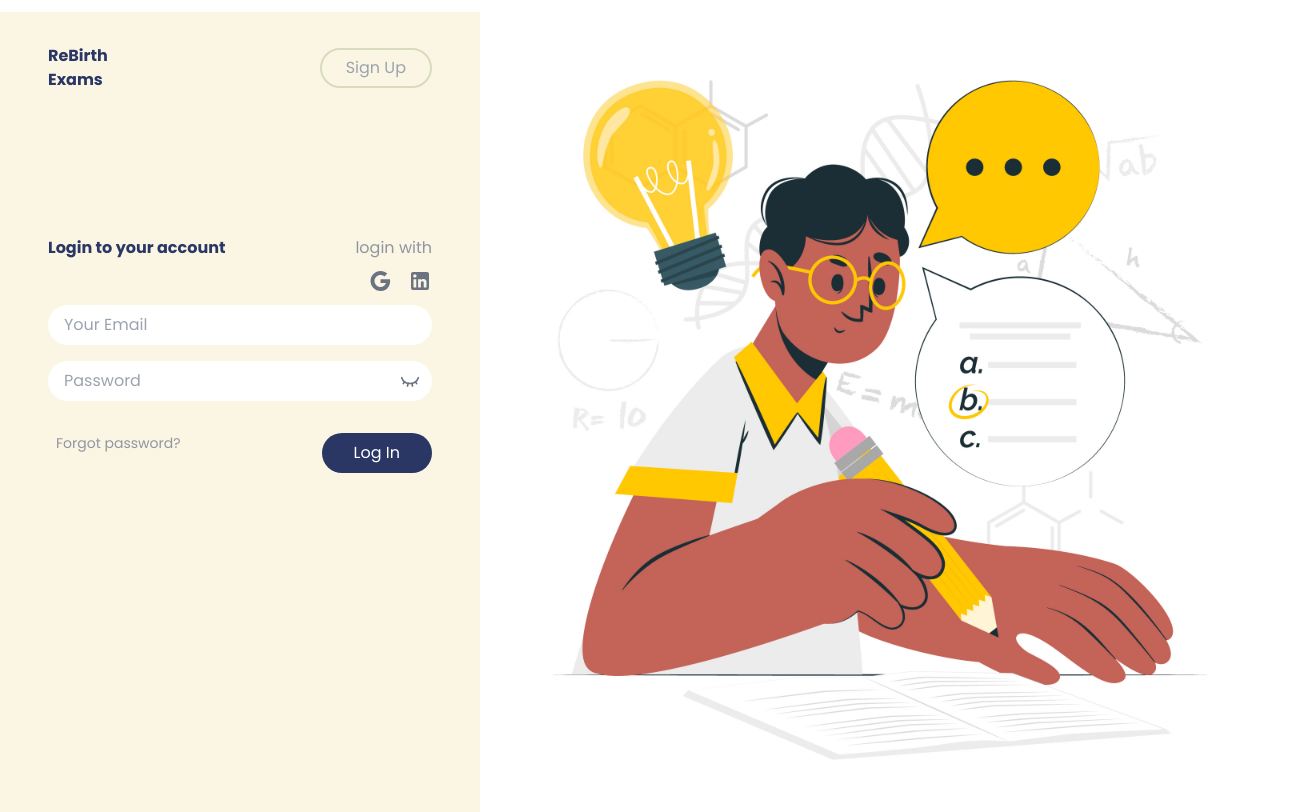
Test case: Signup › redirects on successful login
Step 1. Click the button "Sign Up" → (376, 68), box [320,48,432,88]
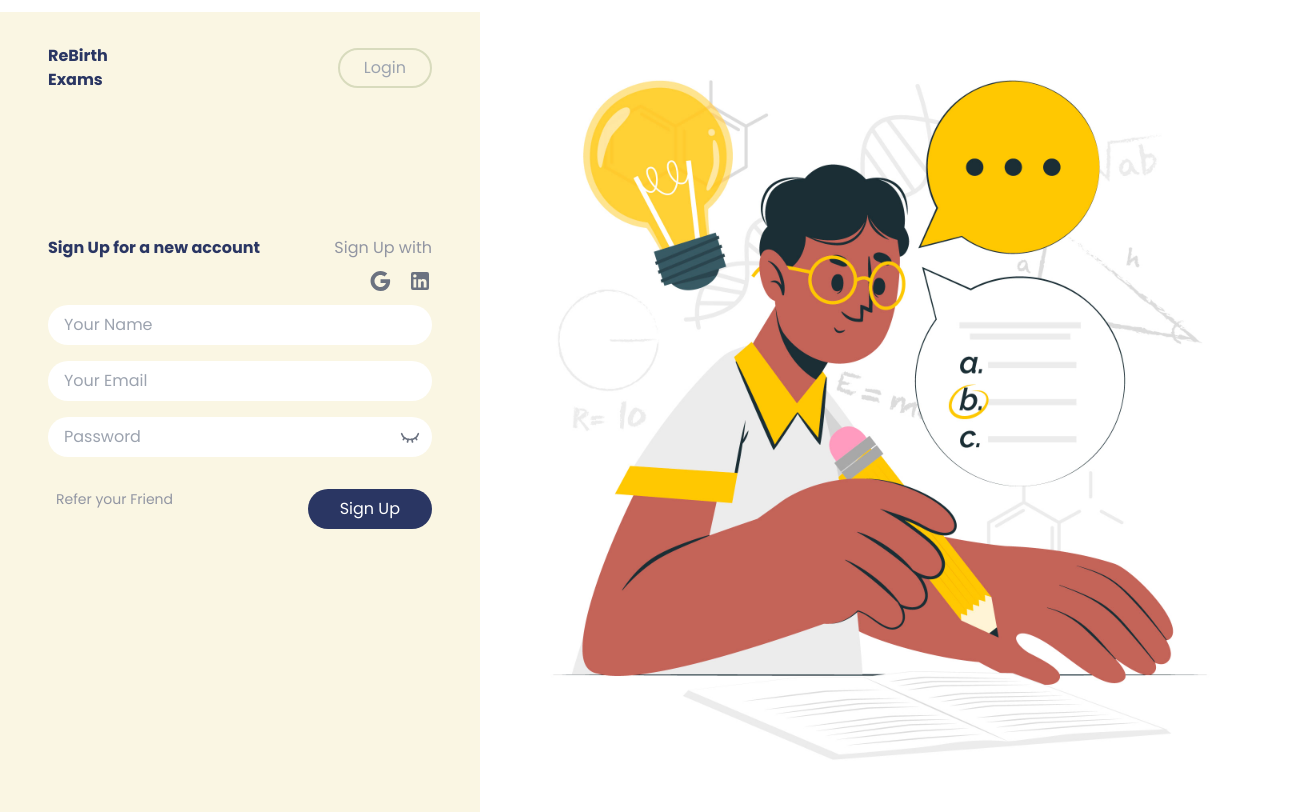
Step 2. Type "brighty" into the field with placeholder "Your Name" → (240, 325), box [48,305,432,345]
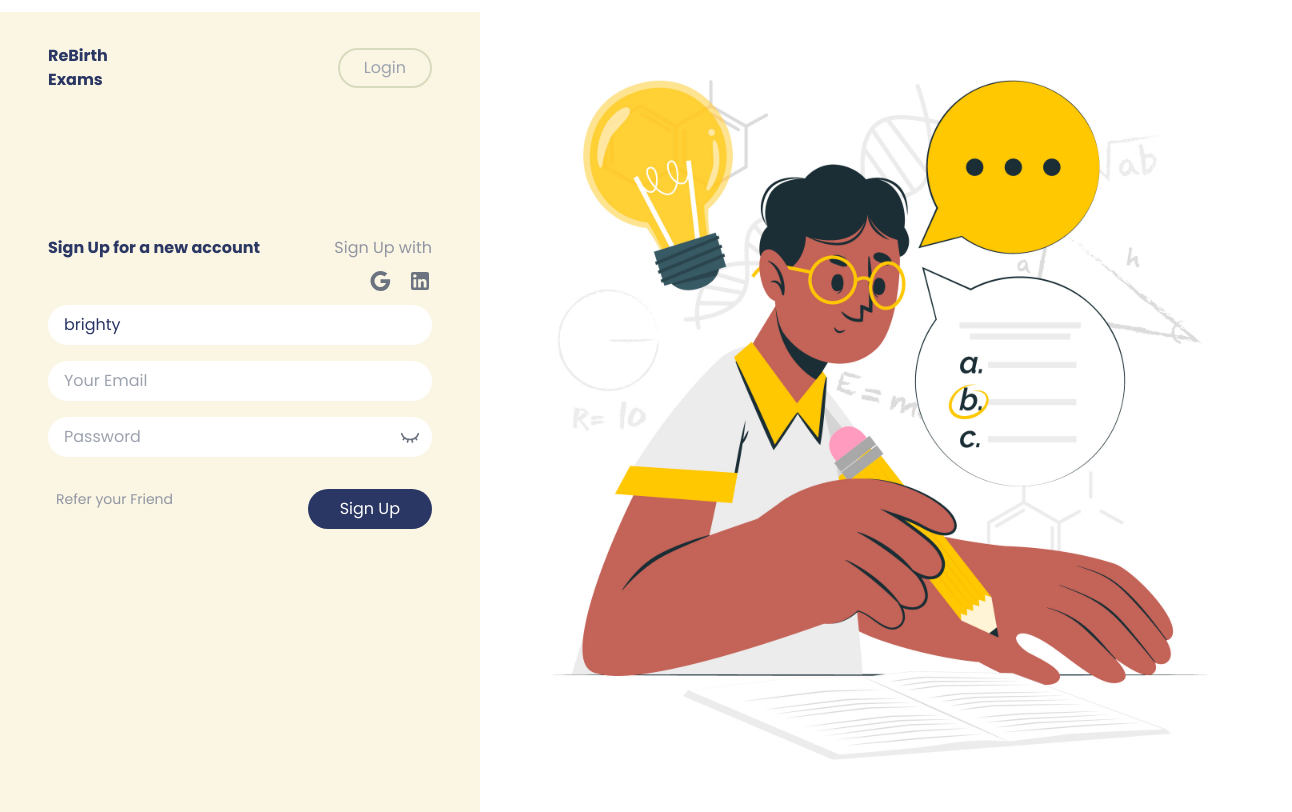
Step 3. Type "sbrighty54@gmail.com" into the field with placeholder "Your Email" → (240, 381), box [48,361,432,401]
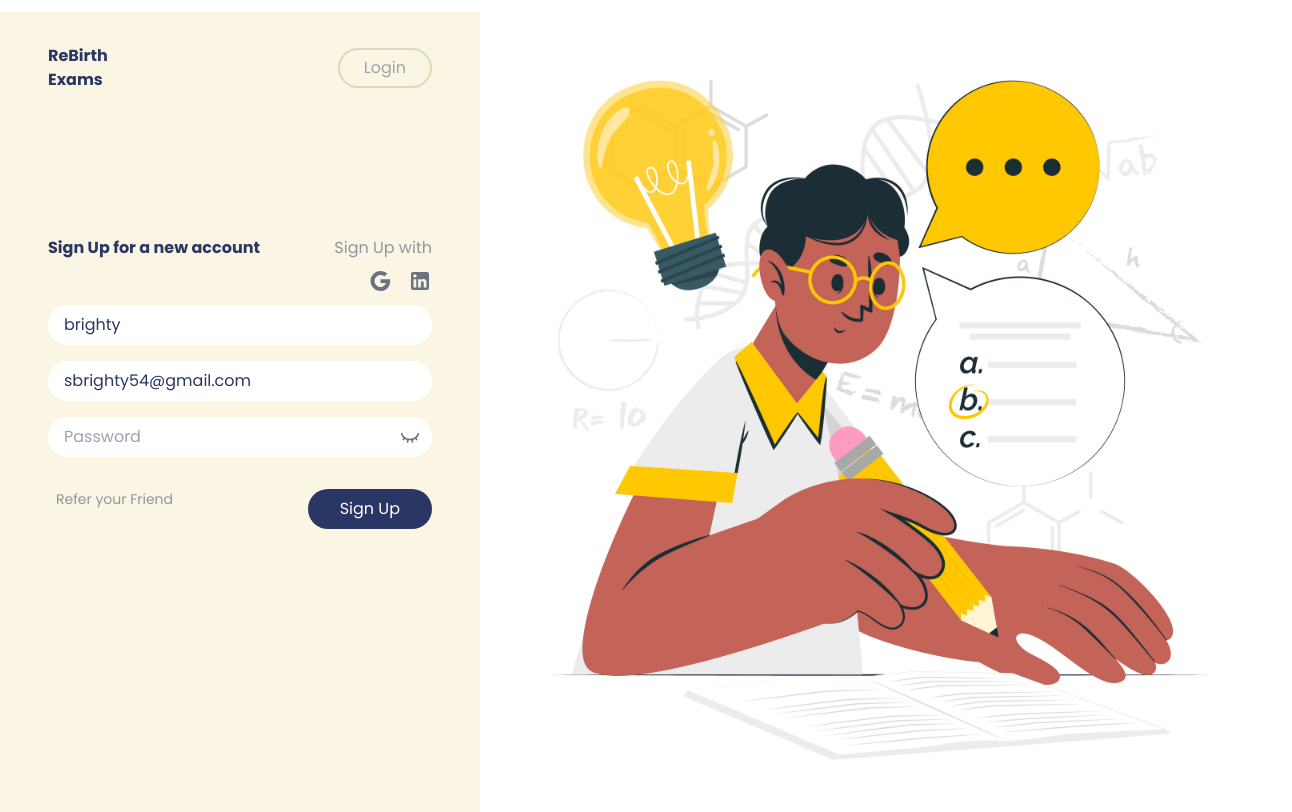
Step 4. Type "password" into the password field with placeholder "Password" → (240, 437), box [48,417,432,457]
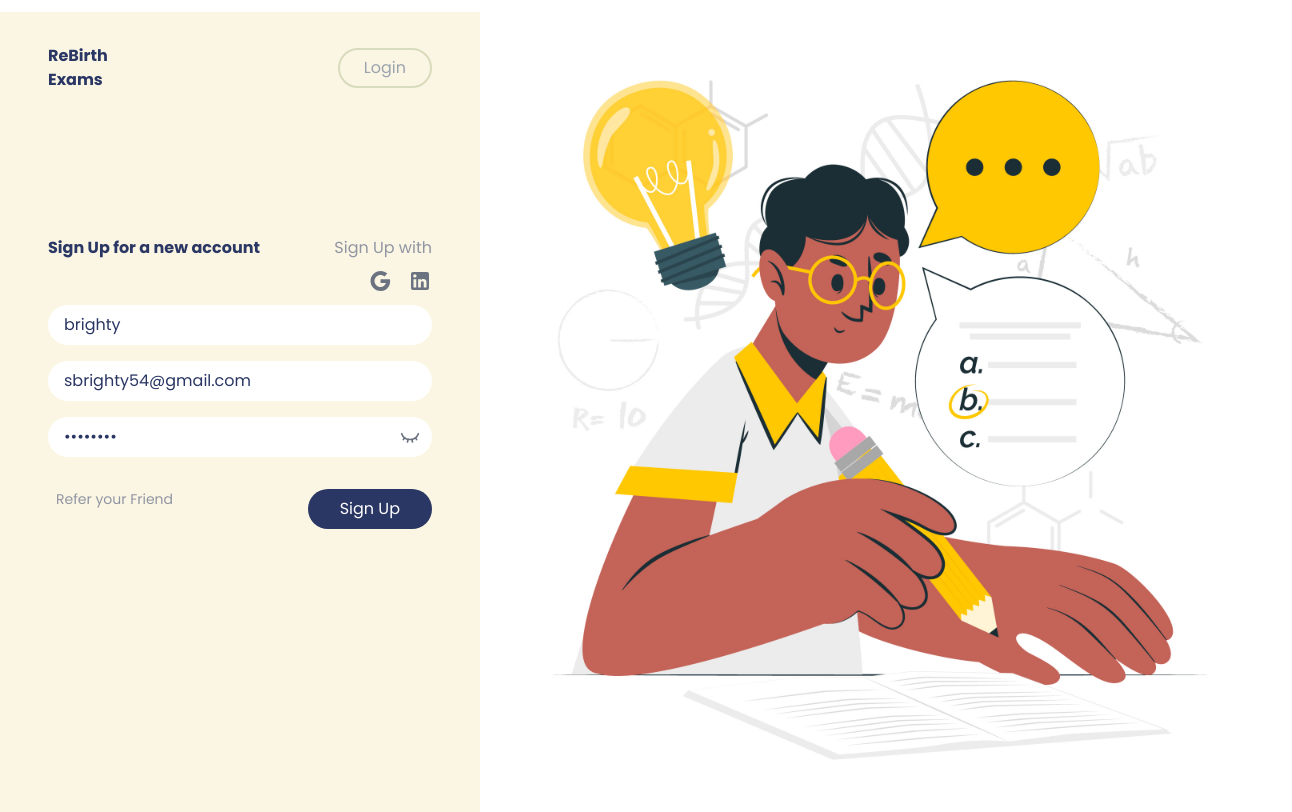
Step 5. Click the button "Sign Up" → (370, 509), box [308,489,432,529]
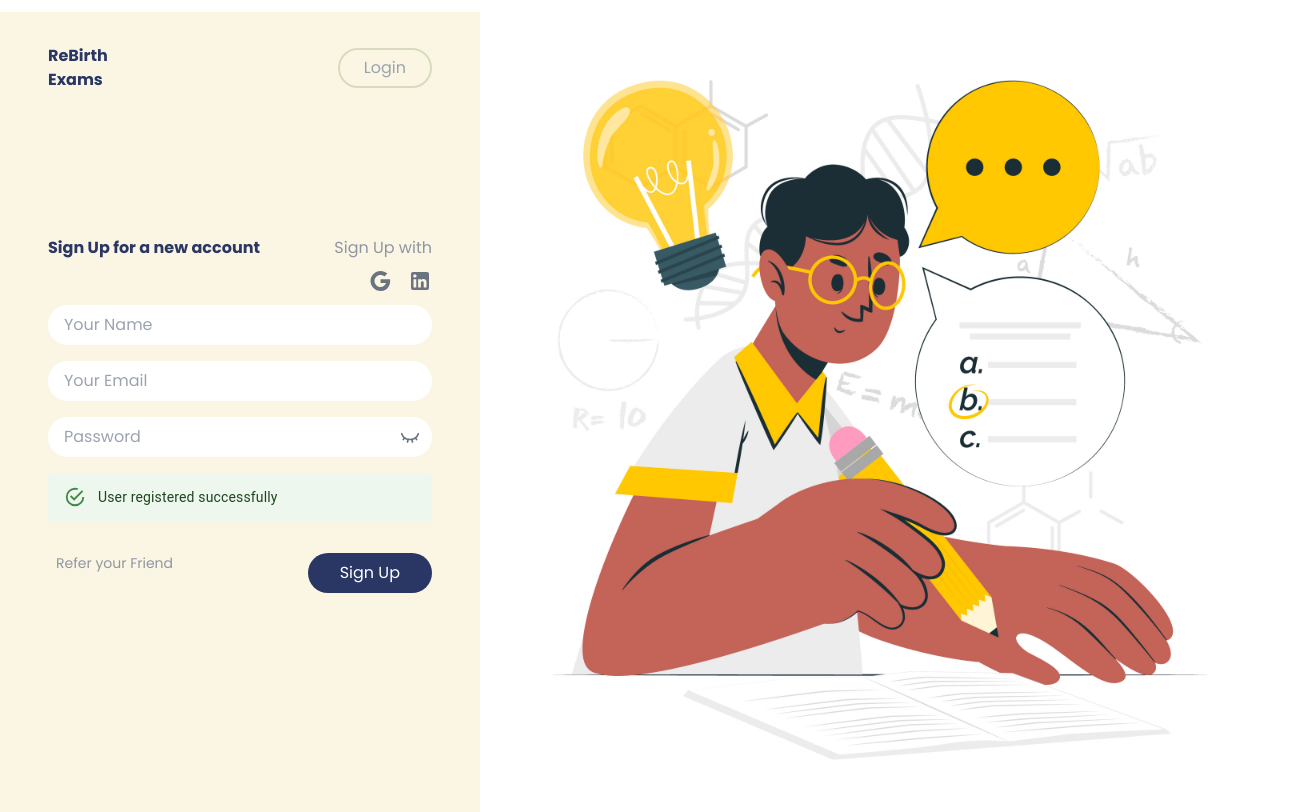
Expected: the text "User registered successfully" is shown, [98,489,278,505]
